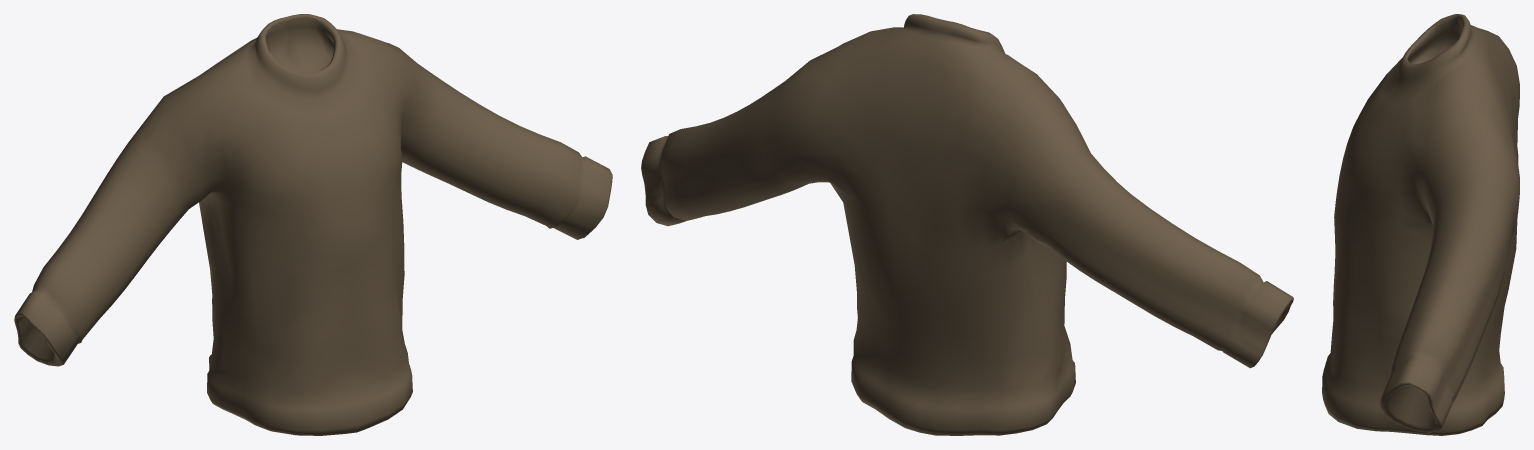
The model's file is sweat.glb.
3 views of the same model, side by side, from view 1: azimuth 30°, elevation 25°; view 2: azimuth 150°, elevation 25°; view 3: azimuth 270°, elevation 25° (orthographic). The views are drawn at different scales.
Visible parts, largest first — view 1: Object_26_n3d; view 2: Object_26_n3d; view 3: Object_26_n3d.
Boxes of the visible parts, x1,y1,x2,y2 form: Object_26_n3d: (14, 14, 612, 435); Object_26_n3d: (641, 14, 1293, 435); Object_26_n3d: (1322, 14, 1519, 435).
Size of the model in its own units: 65.67 by 38.99 by 18.53.
